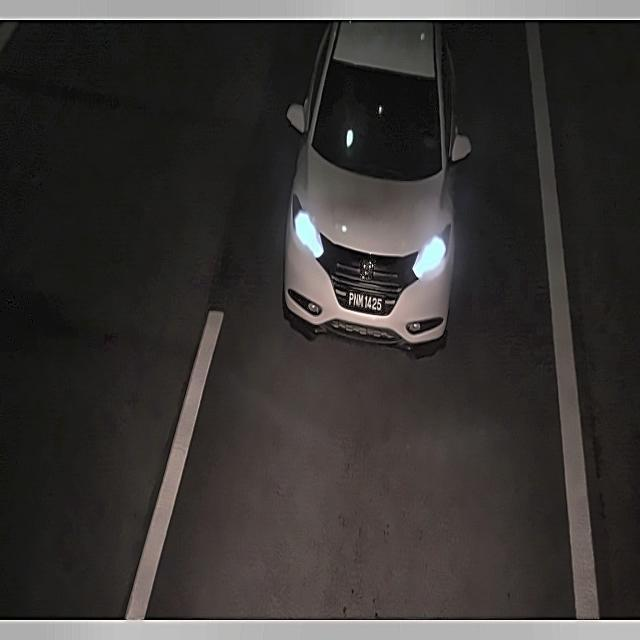car: (343, 288, 386, 319)
